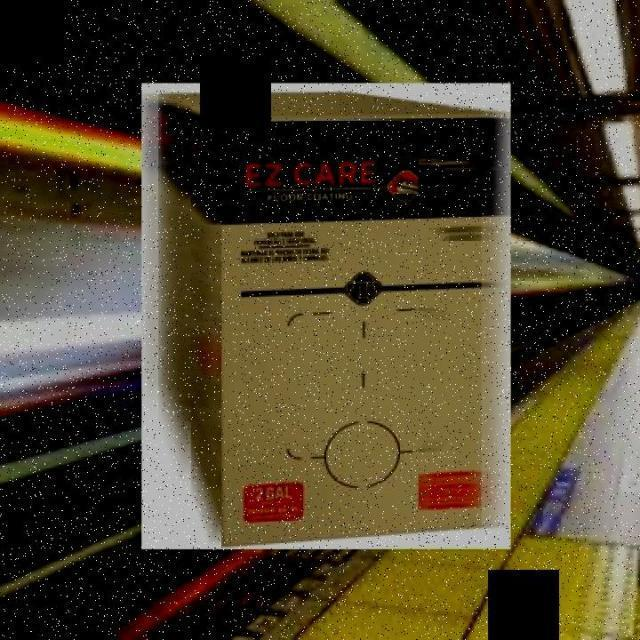box: (137, 77, 517, 557)
